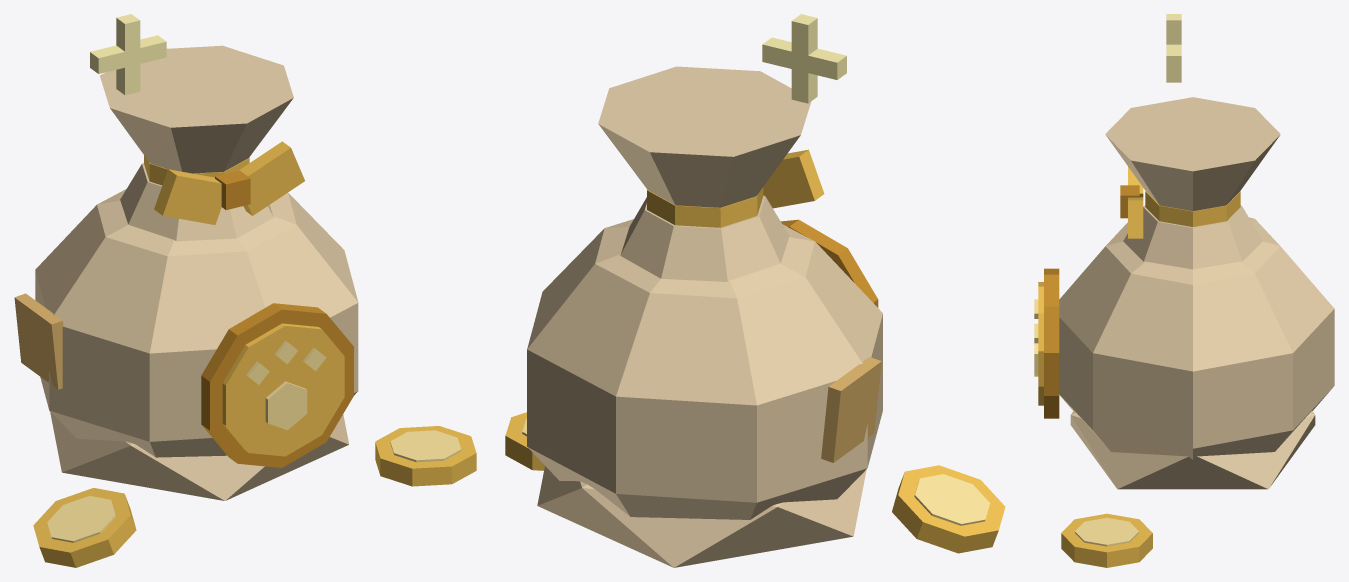
File: CatCafe_Prop_MoneyBag.glb
3 renders of one model, left to right at view 1: azimuth 30°, elevation 25°; view 2: azimuth 150°, elevation 25°; view 3: azimuth 270°, elevation 25°, orthographic. The views are drawn at different scales.
Visible parts, largest first — view 1: CatCafe_Prop_MoneyBag, CatCafe_Prop_MoneyBag_Glow; view 2: CatCafe_Prop_MoneyBag, CatCafe_Prop_MoneyBag_Glow; view 3: CatCafe_Prop_MoneyBag, CatCafe_Prop_MoneyBag_Glow.
Part boxes in pixels (left/top/right/bottom): CatCafe_Prop_MoneyBag: left=14, top=45, right=476, bottom=567; CatCafe_Prop_MoneyBag_Glow: left=90, top=14, right=166, bottom=95; CatCafe_Prop_MoneyBag: left=505, top=66, right=1005, bottom=567; CatCafe_Prop_MoneyBag_Glow: left=762, top=14, right=846, bottom=103; CatCafe_Prop_MoneyBag: left=1034, top=97, right=1334, bottom=567; CatCafe_Prop_MoneyBag_Glow: left=1166, top=14, right=1181, bottom=82.
Bounding box in the file's own units: 2.31 × 2.44 × 1.57.
1 material, 1 textured.
